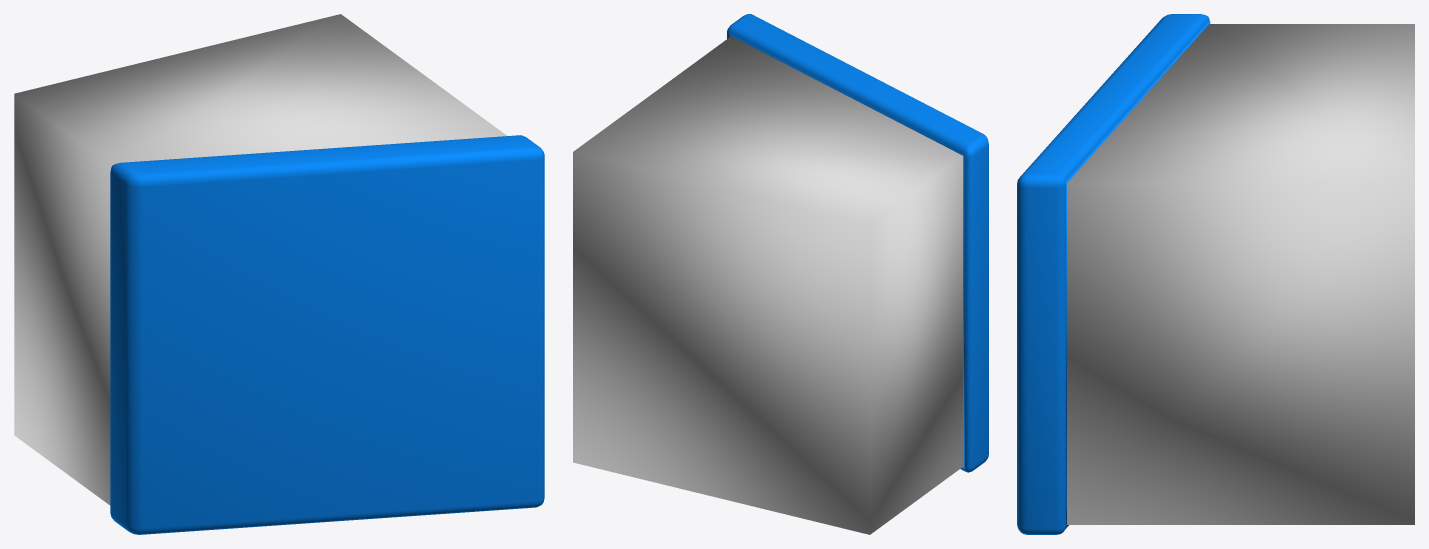
File: Base_1_Ramp_Mid_To_Tall.glb
3 views of the same model, side by side, from view 1: azimuth 30°, elevation 25°; view 2: azimuth 150°, elevation 25°; view 3: azimuth 270°, elevation 25° (orthographic). The views are drawn at different scales.
Parts seen in each view (by area): view 1: Base 1 Ramp Mid To Tall; view 2: Base 1 Ramp Mid To Tall; view 3: Base 1 Ramp Mid To Tall.
Part boxes in pixels (bbox=[...]): Base 1 Ramp Mid To Tall: bbox=[14, 14, 544, 534]; Base 1 Ramp Mid To Tall: bbox=[573, 14, 988, 534]; Base 1 Ramp Mid To Tall: bbox=[1017, 14, 1414, 534].
Bounding box in the file's own units: 7.98 × 7.98 × 7.99.
